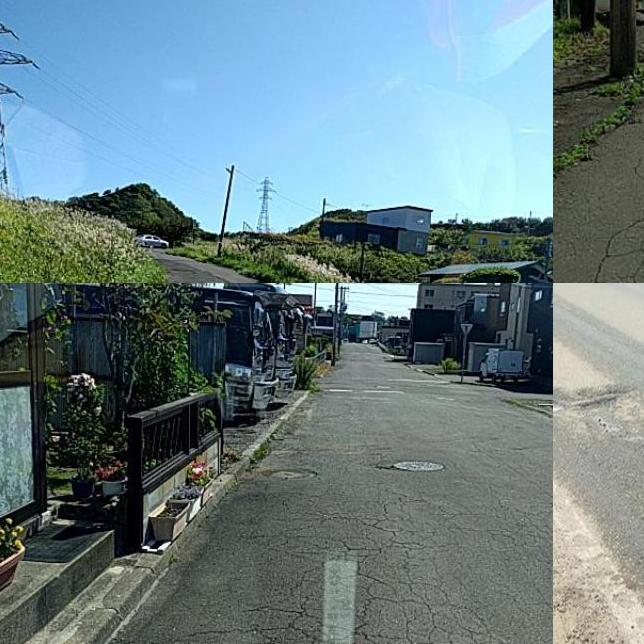Retak Buaya: (269, 497, 491, 644)
